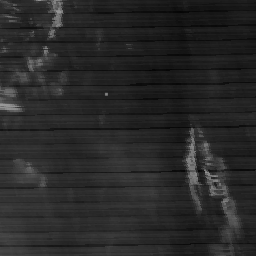Target: (104, 91, 110, 98)
